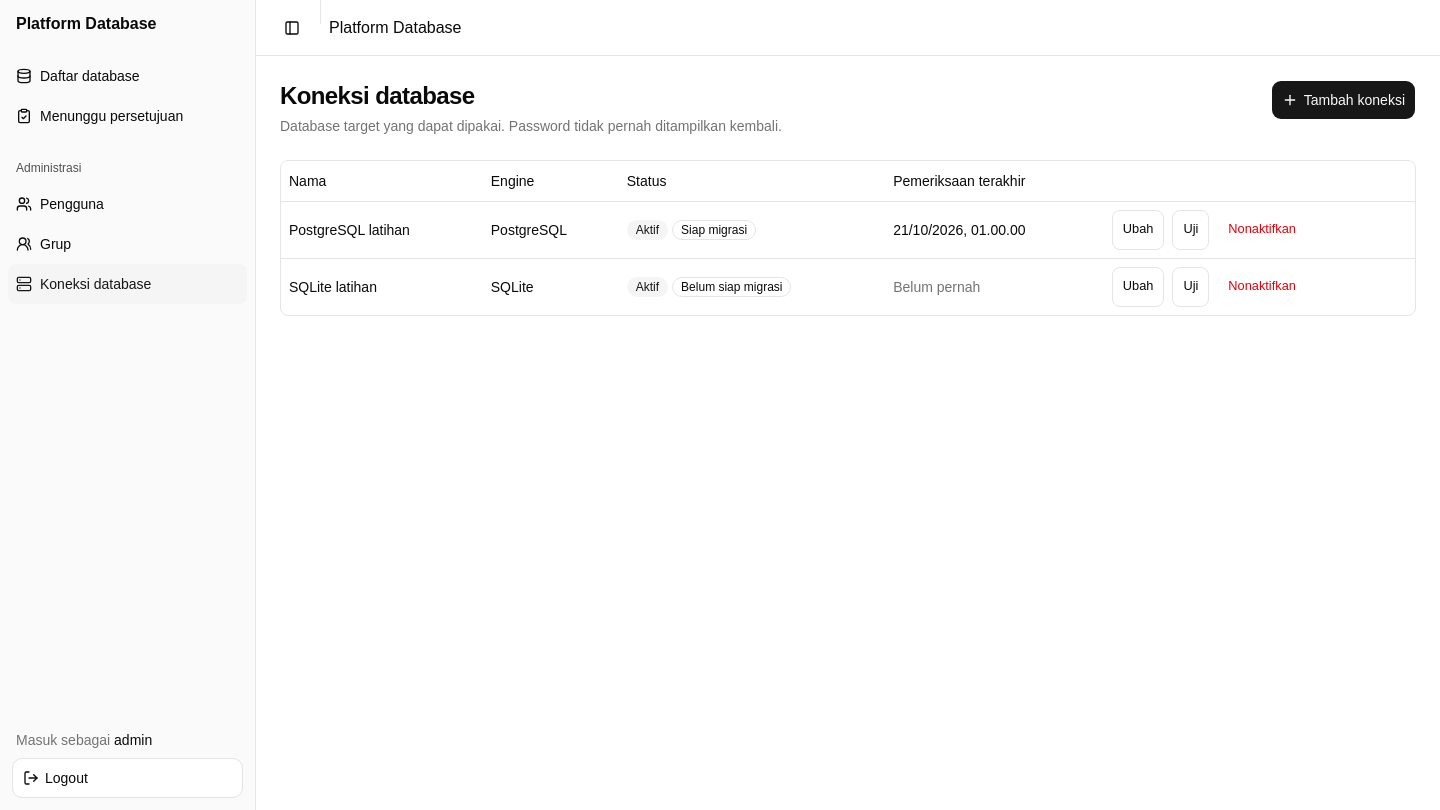
Scenario: connections admin › asks before deactivating
Later steps or results of the test are not shown.
Click the button "Nonaktifkan" in the row of "PostgreSQL latihan" at (1262, 230), box [1217, 210, 1307, 250]
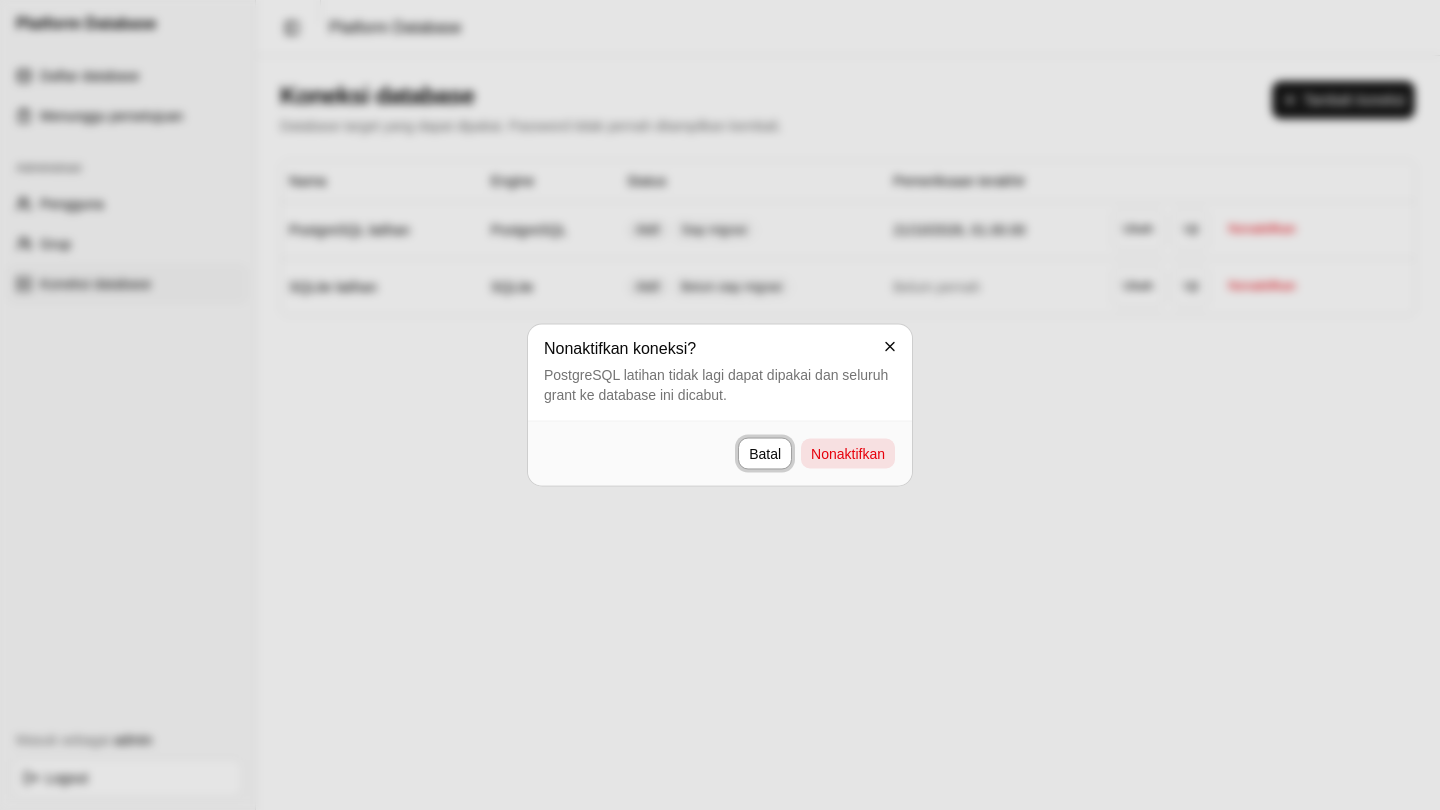
Expected: the dialog "Nonaktifkan koneksi?" is shown, [528, 324, 912, 486]
